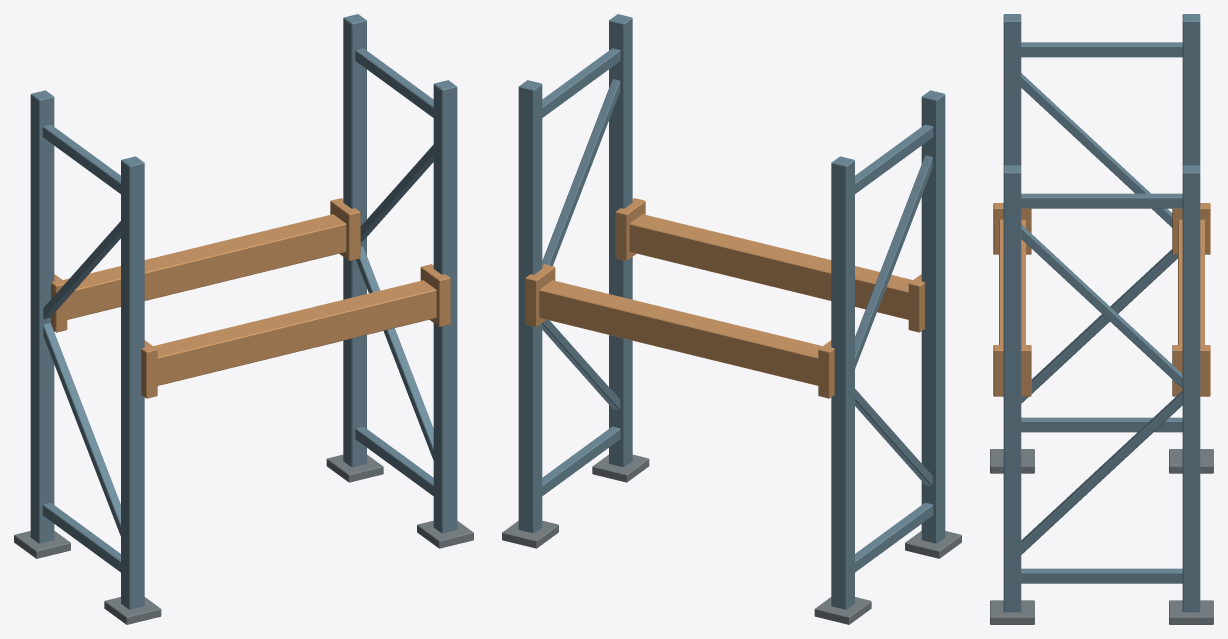
3 views of the same model, side by side, from view 1: azimuth 30°, elevation 25°; view 2: azimuth 150°, elevation 25°; view 3: azimuth 270°, elevation 25° (orthographic).
Parts seen in each view (by area): view 1: Pallet bearing beam, Upright post, Pallet bearing beam.001, Upright post.002, Upright post.001, Upright post.003, Lower side diagonal, Lower side diagonal.001, Side frame horizontal tie.003, Side frame horizontal tie.002, Side frame horizontal tie, Side frame horizontal tie.001 (+9 smaller); view 2: Pallet bearing beam.001, Upright post.001, Upright post.003, Upright post, Pallet bearing beam, Upright post.002, Upper side diagonal, Upper side diagonal.001, Side frame horizontal tie.003, Side frame horizontal tie.002, Side frame horizontal tie, Side frame horizontal tie.001 (+10 smaller); view 3: Upright post.002, Upright post.003, Upright post, Upright post.001, Side frame horizontal tie.001, Side frame horizontal tie.002, Side frame horizontal tie.003, Lower side diagonal.001, Upper side diagonal.001, Side frame horizontal tie, Lower side diagonal, Upper side diagonal (+10 smaller).
Part boxes in pixels (bbox=[...]): Pallet bearing beam: bbox=[153, 280, 436, 385]; Upright post: bbox=[121, 156, 144, 609]; Pallet bearing beam.001: bbox=[63, 214, 346, 319]; Upright post.002: bbox=[433, 80, 457, 533]; Upright post.001: bbox=[30, 90, 54, 543]; Upright post.003: bbox=[343, 14, 366, 467]; Lower side diagonal: bbox=[43, 323, 120, 535]; Lower side diagonal.001: bbox=[356, 246, 433, 459]; Side frame horizontal tie.003: bbox=[355, 48, 433, 117]; Side frame horizontal tie.002: bbox=[355, 426, 433, 495]; Side frame horizontal tie: bbox=[42, 502, 120, 572]; Side frame horizontal tie.001: bbox=[42, 124, 120, 193]; Pallet bearing beam.001: bbox=[539, 280, 822, 385]; Upright post.001: bbox=[831, 156, 854, 609]; Upright post.003: bbox=[518, 80, 542, 533]; Upright post: bbox=[921, 90, 945, 543]; Pallet bearing beam: bbox=[629, 214, 912, 319]; Upright post.002: bbox=[609, 14, 632, 467]; Upper side diagonal: bbox=[855, 155, 932, 368]; Upper side diagonal.001: bbox=[542, 79, 620, 265]; Side frame horizontal tie.003: bbox=[542, 48, 620, 117]; Side frame horizontal tie.002: bbox=[542, 426, 620, 495]; Side frame horizontal tie: bbox=[855, 502, 933, 572]; Side frame horizontal tie.001: bbox=[855, 124, 933, 193]; Upright post.002: bbox=[1003, 165, 1021, 612]; Upright post.003: bbox=[1182, 165, 1200, 612]; Upright post: bbox=[1003, 14, 1021, 165]; Upright post.001: bbox=[1182, 14, 1200, 165]; Side frame horizontal tie.001: bbox=[1021, 42, 1182, 57]; Side frame horizontal tie.002: bbox=[1021, 568, 1182, 583]; Side frame horizontal tie.003: bbox=[1021, 193, 1182, 208]; Lower side diagonal.001: bbox=[1021, 391, 1182, 554]; Upper side diagonal.001: bbox=[1021, 224, 1182, 388]; Side frame horizontal tie: bbox=[1021, 417, 1182, 432]; Lower side diagonal: bbox=[1021, 249, 1177, 403]; Upper side diagonal: bbox=[1021, 73, 1172, 227].
Bounding box in the file's own units: 1.78 × 2.21 × 1.
